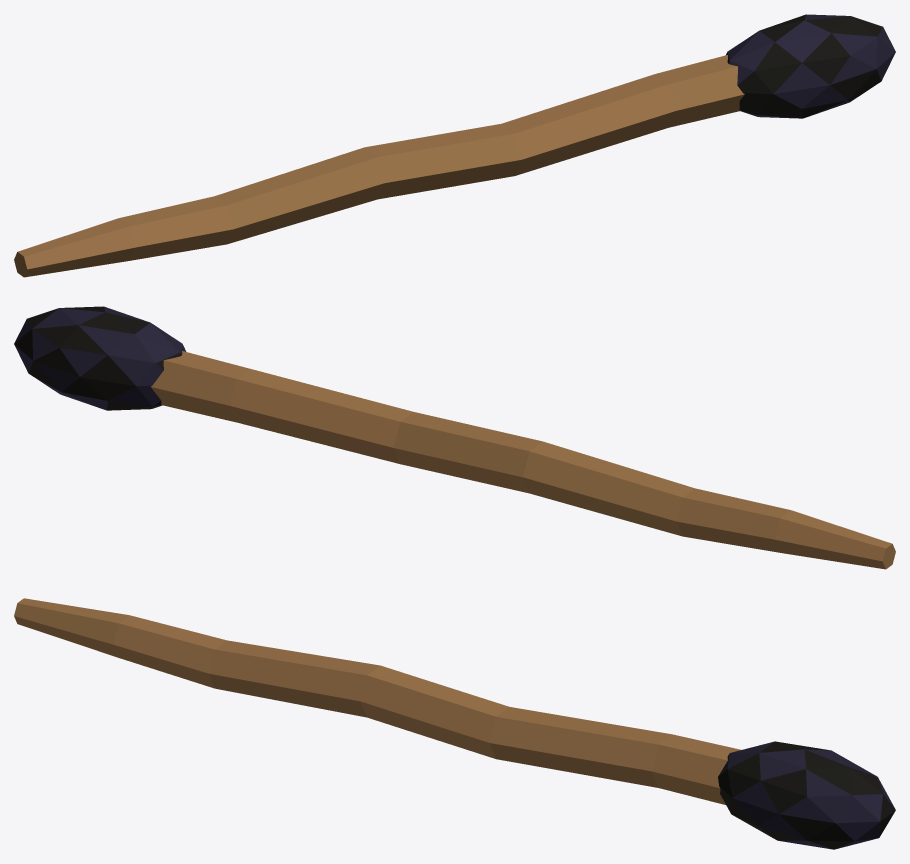
The model's file is torch.fbx.
The picture shows the model from 3 angles, top to bottom: view 1: azimuth 30°, elevation 25°; view 2: azimuth 150°, elevation 25°; view 3: azimuth 330°, elevation 25°; orthographic projection.
Visible parts, largest first — view 1: torch, torch_head; view 2: torch, torch_head; view 3: torch, torch_head.
Part boxes in pixels (x1,y1,x2,y2): torch: (14,55,744,277); torch_head: (726,14,895,118); torch: (150,351,895,569); torch_head: (14,306,186,410); torch: (14,598,740,804); torch_head: (718,741,895,849).
Bounding box in the file's own units: 96.95 × 9.86 × 9.86.
